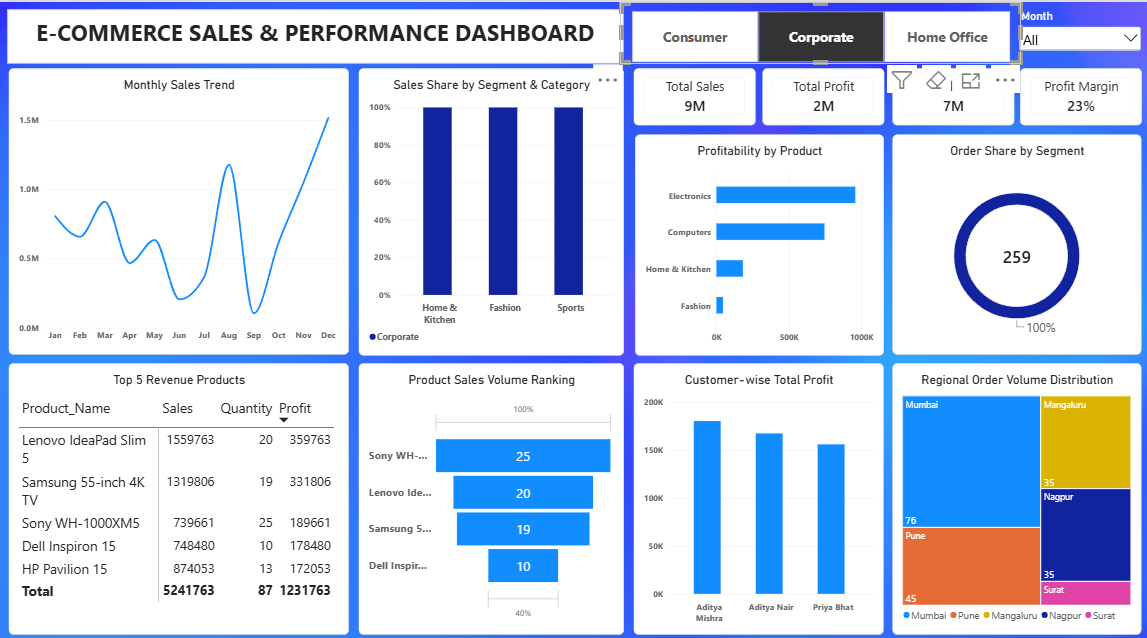

Layout of this report page (visuals, bound fields, positions):
{"tool":"powerbi","page":{"name":"Page 1","canvas":[1920,1080],"ordinal":0},"visuals":[{"type":"cardVisual","fields":{"Data":["Sum(Orders.Total_Sales)"]},"box":[1056.5,128.3,205,94],"z":0},{"type":"cardVisual","fields":{"Data":["Avg(Orders.Profit_Margin)"]},"box":[1713,126.1,191.3,95.7],"z":1000},{"type":"cardVisual","fields":{"Data":["Sum(Orders.Total_Cost)"]},"box":[1280.4,128.3,197.8,95.7],"z":2000},{"type":"cardVisual","fields":{"Data":["Sum(Orders.Total_Profit)"]},"box":[1500,126.1,193.5,95.7],"z":3000},{"type":"lineChart","title":"Monthly Sales Trend","fields":{"Category":["Date_Table.Month"],"Y":["Sum(Orders.Total_Sales)"]},"box":[17.4,130.4,576.1,477],"z":4000},{"type":"clusteredBarChart","title":"Profitability by Product","fields":{"Category":["Products.Category"],"Y":["Sum(Orders.Total_Profit)"]},"box":[1058.7,234.8,432.6,371.7],"z":5000},{"type":"donutChart","title":"Order Share by Segment","fields":{"Category":["Customers.Customer_Segment"],"Y":["CountNonNull(Orders.Order_ID)"]},"box":[1502.2,237,402.2,371.7],"z":6000},{"type":"clusteredColumnChart","fields":{"Category":["Customers.Customer_Name"],"Y":["Sum(Orders.Total_Profit)"]},"box":[1056.5,623.9,432.6,430.4],"z":7000},{"type":"slicer","fields":{"Values":["Date_Table.Month"]},"box":[1696.1,12.3,223.9,97.8],"z":8000},{"type":"pivotTable","title":"Top 5 Revenue Products","fields":{"Rows":["Products.Product_Name"],"Values":["Sum(Orders.Total_Sales)","Orders.Total Quantity","Sum(Orders.Total_Profit)"]},"box":[15.2,623.9,576.1,430.4],"z":9000},{"type":"hundredPercentStackedColumnChart","title":"Sales Share by Segment & Category","fields":{"Category":["Products.Category"],"Series":["Customers.Customer_Segment"],"Y":["Sum(Orders.Total_Sales)"]},"box":[606.5,128.3,434.8,478.3],"z":10000},{"type":"funnel","title":"Product Sales Volume Ranking","fields":{"Category":["Products.Product_Name"],"Y":["Orders.Total Quantity"]},"box":[606.7,624.4,435.6,428.9],"z":11000},{"type":"treemap","title":"Regional Order Volume Distribution","fields":{"Group":["Customers.City"],"Values":["Sum(Orders.Quantity)"]},"box":[1500,623.9,408.7,430.4],"z":12000},{"type":"slicer","fields":{"Values":["Customers.Customer_Segment"]},"box":[1033.3,4.2,671.7,97.8],"z":13000},{"type":"textbox","box":[12.5,12.5,1027.1,89.6],"z":16000}]}

Visuals, with their boxes in screenshot pixels (x1, y1, x2, y2), scaled from the page's 1920x1080 canvas onto the 1147x638 screenshot:
cardVisual - Sum(Orders.Total_Sales): (x1=631, y1=76, x2=754, y2=131)
cardVisual - Avg(Orders.Profit_Margin): (x1=1023, y1=74, x2=1138, y2=131)
cardVisual - Sum(Orders.Total_Cost): (x1=765, y1=76, x2=883, y2=132)
cardVisual - Sum(Orders.Total_Profit): (x1=896, y1=74, x2=1012, y2=131)
"Monthly Sales Trend" lineChart: (x1=10, y1=77, x2=355, y2=359)
"Profitability by Product" clusteredBarChart: (x1=632, y1=139, x2=891, y2=358)
"Order Share by Segment" donutChart: (x1=897, y1=140, x2=1138, y2=360)
clusteredColumnChart - Customers.Customer_Name x Sum(Orders.Total_Profit): (x1=631, y1=369, x2=890, y2=623)
slicer - Date_Table.Month: (x1=1013, y1=7, x2=1146, y2=65)
"Top 5 Revenue Products" pivotTable: (x1=9, y1=369, x2=353, y2=623)
"Sales Share by Segment & Category" hundredPercentStackedColumnChart: (x1=362, y1=76, x2=622, y2=358)
"Product Sales Volume Ranking" funnel: (x1=362, y1=369, x2=623, y2=622)
"Regional Order Volume Distribution" treemap: (x1=896, y1=369, x2=1140, y2=623)
slicer - Customers.Customer_Segment: (x1=617, y1=2, x2=1019, y2=60)
textbox: (x1=7, y1=7, x2=621, y2=60)
